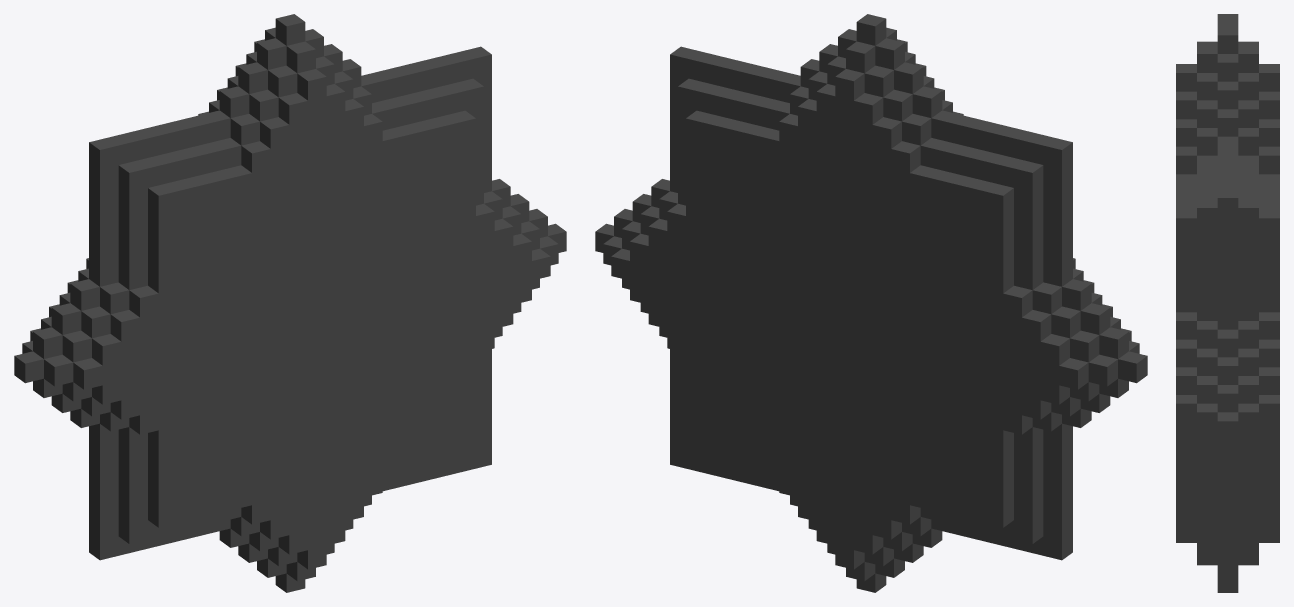
Rendered from Sierra.obj.
The picture shows the model from 3 angles, left to right: view 1: azimuth 30°, elevation 25°; view 2: azimuth 150°, elevation 25°; view 3: azimuth 270°, elevation 25°; orthographic projection. The views are drawn at different scales.
Visible parts, largest first — view 1: Sierra; view 2: Sierra; view 3: Sierra.
Boxes of the visible parts, left/top/right/bottom form: Sierra: left=14, top=14, right=566, bottom=592; Sierra: left=595, top=14, right=1147, bottom=592; Sierra: left=1176, top=14, right=1279, bottom=592.
Bounding box in the file's own units: 29 × 29 × 5.
Materials: 1 (1 with a texture image).
